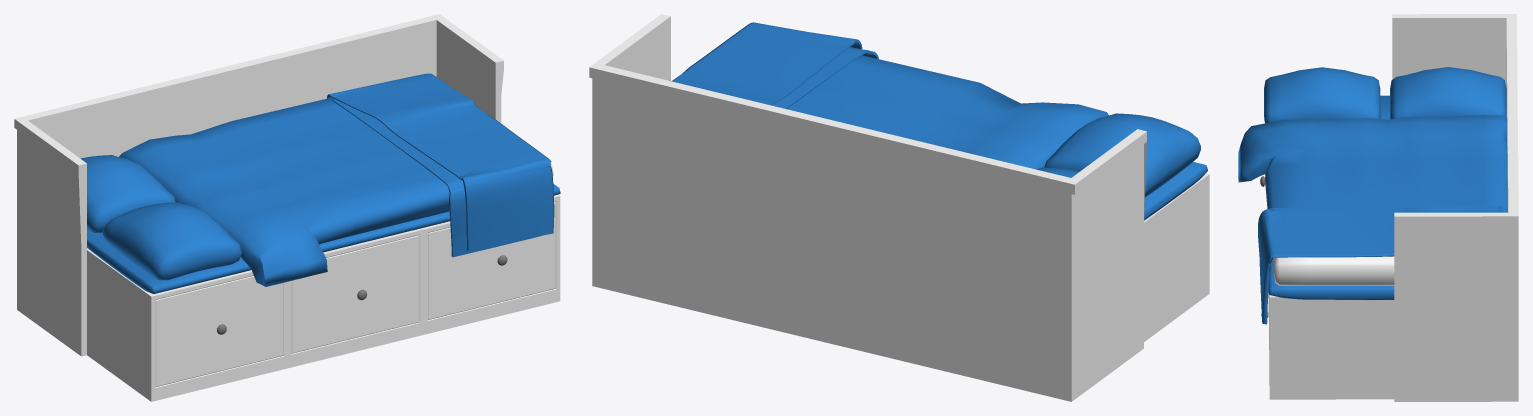
File: Hemnes_Day_Bed_Frame-3D.DAE
3 views of the same model, side by side, from view 1: azimuth 30°, elevation 25°; view 2: azimuth 150°, elevation 25°; view 3: azimuth 270°, elevation 25° (orthographic). The views are drawn at different scales.
Visible parts, largest first — view 1: Box01, ______002; view 2: Box01, ______002; view 3: Box01, ______002.
Part boxes in pixels (x1,y1,x2,y2): Box01: (14,14,560,401); ______002: (80,73,560,293); Box01: (589,14,1209,401); ______002: (669,22,1207,220); Box01: (1268,14,1518,401); ______002: (1238,67,1507,324).
Bounding box in the file's own units: 2002 × 860 × 1171.
